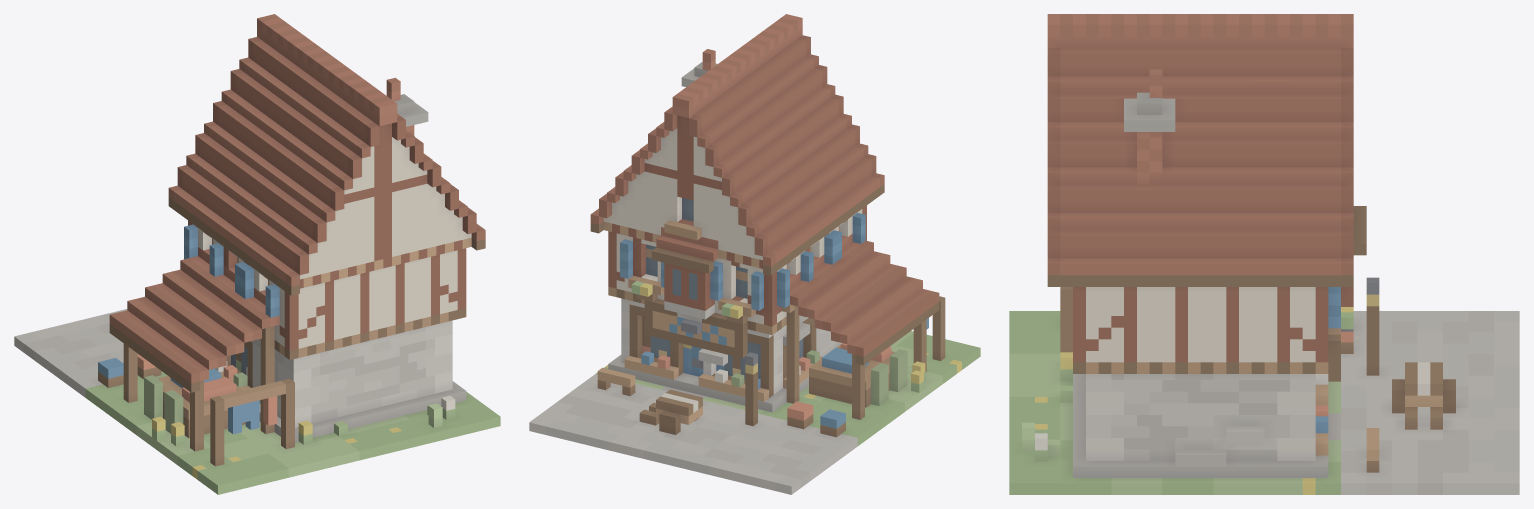
File: tailor.glb
3 renders of one model, left to right at view 1: azimuth 30°, elevation 25°; view 2: azimuth 150°, elevation 25°; view 3: azimuth 270°, elevation 25°, orthographic. The views are drawn at different scales.
Visible parts, largest first — view 1: tailor; view 2: tailor; view 3: tailor.
Part boxes in pixels (left/top/right/bottom): tailor: left=14, top=14, right=500, bottom=494; tailor: left=529, top=14, right=980, bottom=494; tailor: left=1009, top=14, right=1519, bottom=494.
Bounding box in the file's own units: 4 × 4.5 × 5.
